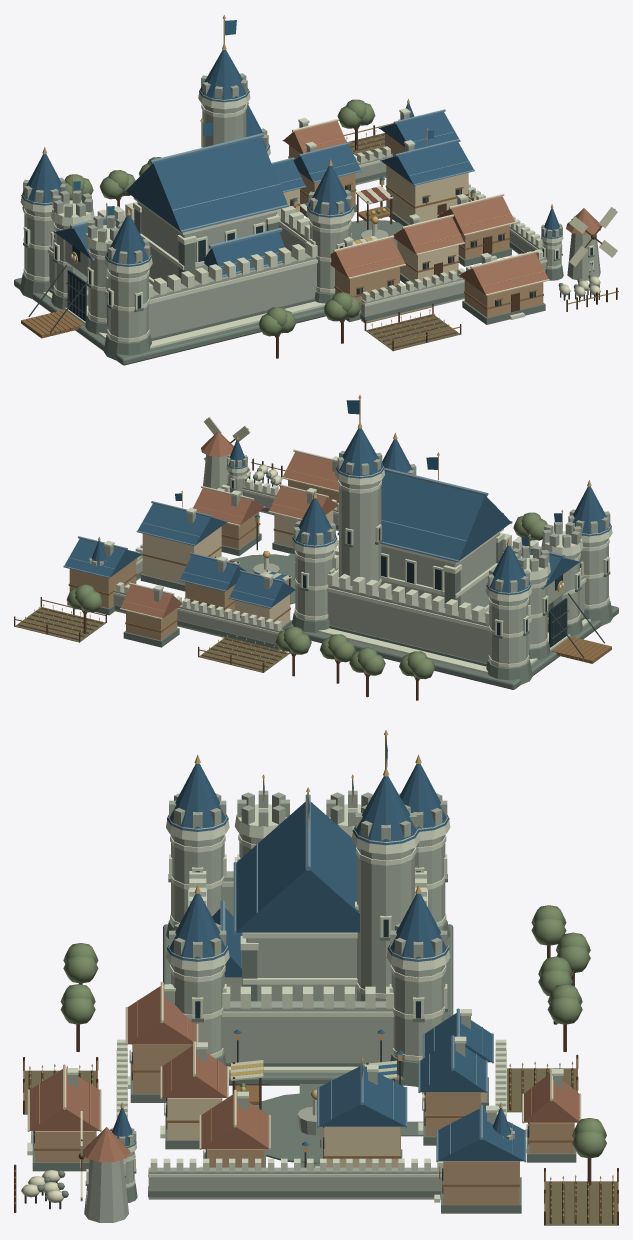
File: royal-castle-v3.glb
3 renders of one model, top to bottom at view 1: azimuth 30°, elevation 25°; view 2: azimuth 150°, elevation 25°; view 3: azimuth 270°, elevation 25°, orthographic. The views are drawn at different scales.
Visible parts, largest first — view 1: royal-castle-v3 Warm dressed limestone, royal-castle-v3 Blue slate roof, royal-castle-v3 Carved pale stone, royal-castle-v3 Weathered foundation, royal-castle-v3 Terracotta village tiles, royal-castle-v3 Warm village plaster, royal-castle-v3 Ivory lime plaster, royal-castle-v3 Moss between stones, royal-castle-v3 Warm cut timber, royal-castle-v3 Slate ridge caps, royal-castle-v3 Dark timber beams, royal-castle-v3 Packed camp earth (+6 smaller); view 2: royal-castle-v3 Warm dressed limestone, royal-castle-v3 Blue slate roof, royal-castle-v3 Carved pale stone, royal-castle-v3 Weathered foundation, royal-castle-v3 Terracotta village tiles, royal-castle-v3 Moss between stones, royal-castle-v3 Warm village plaster, royal-castle-v3 Ivory lime plaster, royal-castle-v3 Packed camp earth, royal-castle-v3 Slate ridge caps, royal-castle-v3 Dark timber beams, royal-castle-v3 Warm cut timber (+7 smaller); view 3: royal-castle-v3 Warm dressed limestone, royal-castle-v3 Blue slate roof, royal-castle-v3 Carved pale stone, royal-castle-v3 Terracotta village tiles, royal-castle-v3 Weathered foundation, royal-castle-v3 Warm village plaster, royal-castle-v3 Moss between stones, royal-castle-v3 Packed camp earth, royal-castle-v3 Ivory lime plaster, royal-castle-v3 Slate ridge caps, royal-castle-v3 Dark timber beams, royal-castle-v3 Warm cut timber (+4 smaller).
Boxes of the visible parts, x1,y1,x2,y2 form: royal-castle-v3 Warm dressed limestone: (23,73,600,343); royal-castle-v3 Blue slate roof: (21,50,562,275); royal-castle-v3 Carved pale stone: (20,89,594,348); royal-castle-v3 Weathered foundation: (14,171,594,365); royal-castle-v3 Terracotta village tiles: (283,121,601,294); royal-castle-v3 Warm village plaster: (289,133,543,317); royal-castle-v3 Ivory lime plaster: (283,165,468,283); royal-castle-v3 Moss between stones: (22,99,380,336); royal-castle-v3 Warm cut timber: (21,123,618,343); royal-castle-v3 Slate ridge caps: (53,109,474,277); royal-castle-v3 Dark timber beams: (116,125,617,358); royal-castle-v3 Packed camp earth: (347,133,459,350); royal-castle-v3 Warm dressed limestone: (89,449,610,668); royal-castle-v3 Blue slate roof: (64,428,611,607); royal-castle-v3 Carved pale stone: (104,456,612,673); royal-castle-v3 Weathered foundation: (67,468,618,689); royal-castle-v3 Terracotta village tiles: (121,431,338,618); royal-castle-v3 Moss between stones: (66,512,547,679); royal-castle-v3 Warm village plaster: (69,480,338,640); royal-castle-v3 Ivory lime plaster: (142,510,333,626); royal-castle-v3 Packed camp earth: (15,607,289,672); royal-castle-v3 Slate ridge caps: (63,467,580,608); royal-castle-v3 Dark timber beams: (14,418,532,700); royal-castle-v3 Warm cut timber: (14,462,611,665); royal-castle-v3 Warm dressed limestone: (68,790,562,1222); royal-castle-v3 Blue slate roof: (112,764,524,1161); royal-castle-v3 Carved pale stone: (27,804,563,1203); royal-castle-v3 Terracotta village tiles: (29,986,579,1162); royal-castle-v3 Weathered foundation: (32,874,576,1213); royal-castle-v3 Warm village plaster: (35,1044,573,1204); royal-castle-v3 Moss between stones: (60,905,606,1158); royal-castle-v3 Packed camp earth: (24,1068,617,1225); royal-castle-v3 Ivory lime plaster: (167,1092,486,1167); royal-castle-v3 Slate ridge caps: (220,794,526,1162); royal-castle-v3 Dark timber beams: (14,945,618,1225); royal-castle-v3 Warm cut timber: (14,1044,618,1211).
Size of the model in its own units: 28.15 by 13.17 by 22.36.
